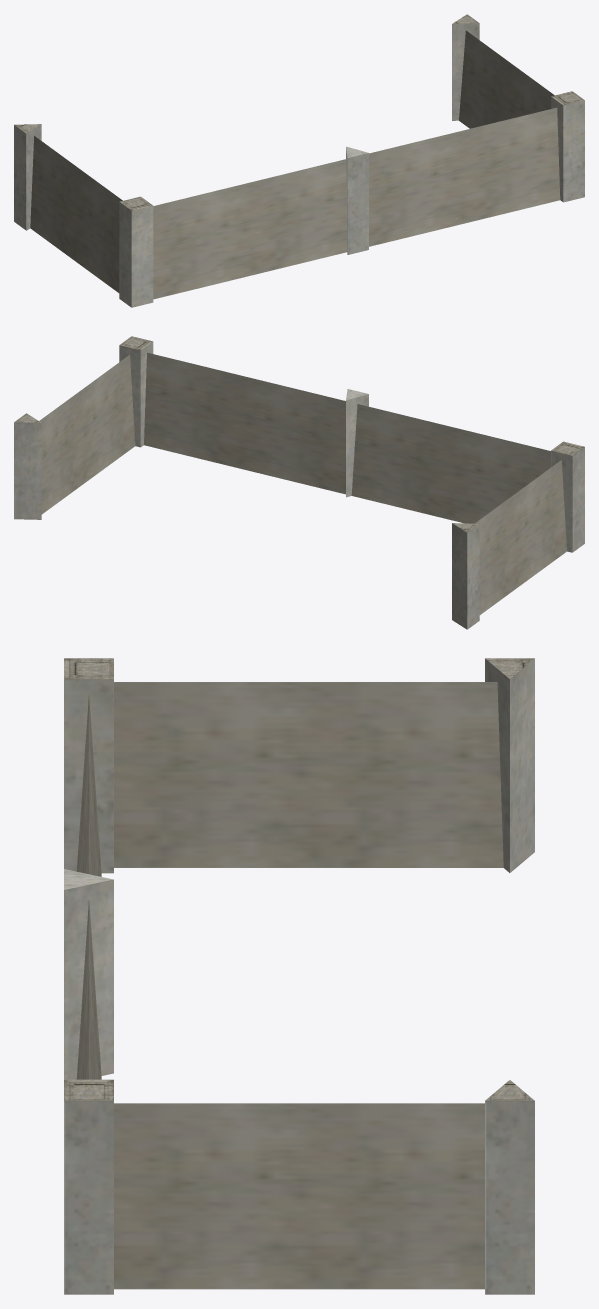
File: poi_all_corral_half_32x32_s04_l1.fbx
The picture shows the model from 3 angles, top to bottom: view 1: azimuth 30°, elevation 25°; view 2: azimuth 150°, elevation 25°; view 3: azimuth 270°, elevation 25°; orthographic projection. The views are drawn at different scales.
Parts seen in each view (by area): view 1: mesh_node; view 2: mesh_node; view 3: mesh_node.
Boxes of the visible parts, left/top/right/bottom form: mesh_node: left=14, top=14, right=584, bottom=307; mesh_node: left=14, top=336, right=584, bottom=629; mesh_node: left=64, top=658, right=534, bottom=1294.
Size of the model in its own units: 21 by 4.29 by 9.44.
Materials: 1 (1 with a texture image).
